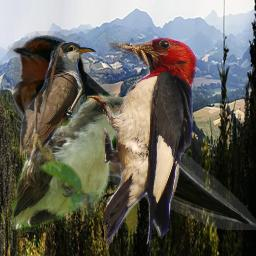Cuckoo: (9, 94, 146, 232), (20, 42, 115, 161)
Swallow: (6, 31, 256, 230)
Woodpecker: (87, 37, 197, 248)
